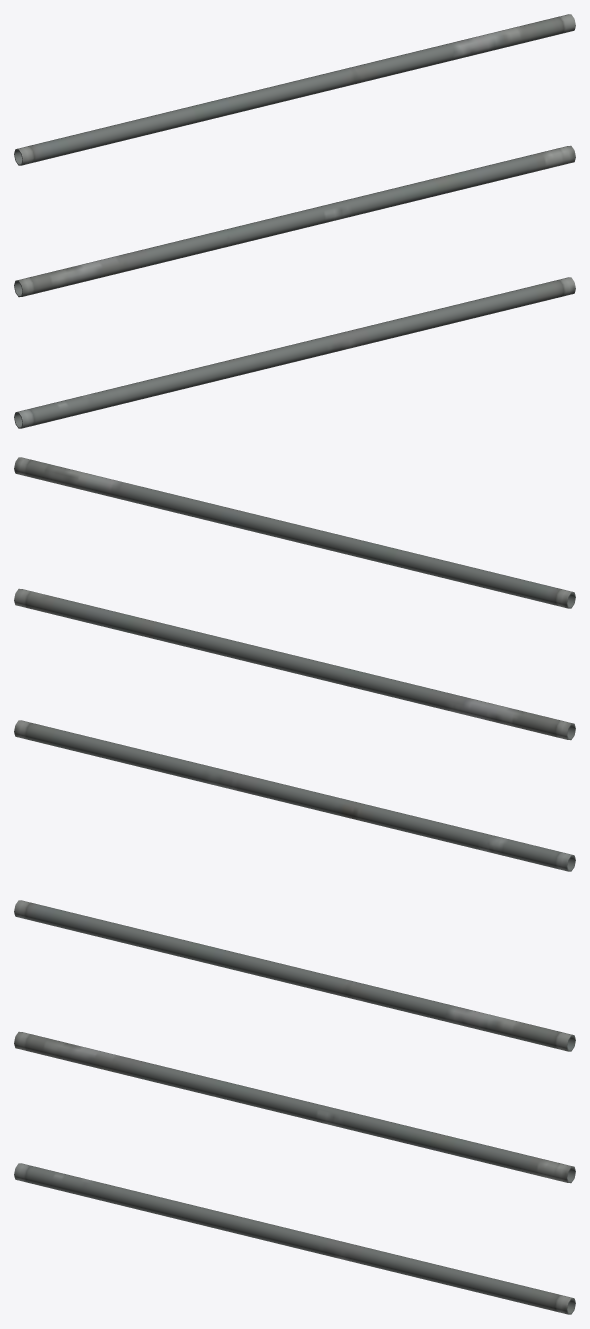
3 views of the same model, one above another, from view 1: azimuth 30°, elevation 25°; view 2: azimuth 150°, elevation 25°; view 3: azimuth 330°, elevation 25° (orthographic).
Visible parts, largest first — view 1: body0_model0_lod0_mesh0; view 2: body0_model0_lod0_mesh0; view 3: body0_model0_lod0_mesh0.
Boxes of the visible parts, x1,y1,x2,y2 form: body0_model0_lod0_mesh0: (14,14,575,428); body0_model0_lod0_mesh0: (14,457,575,871); body0_model0_lod0_mesh0: (14,900,575,1314).
Size of the model in its own units: 70.4 by 34 by 2.
1 material, 1 textured.
